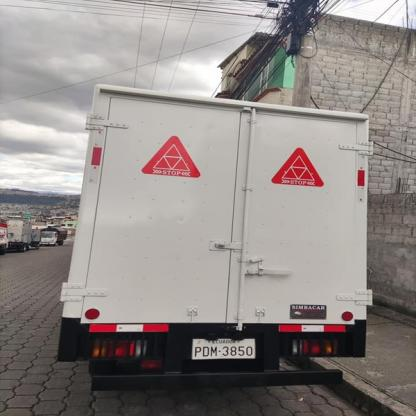Placa: (190, 335, 258, 363)
